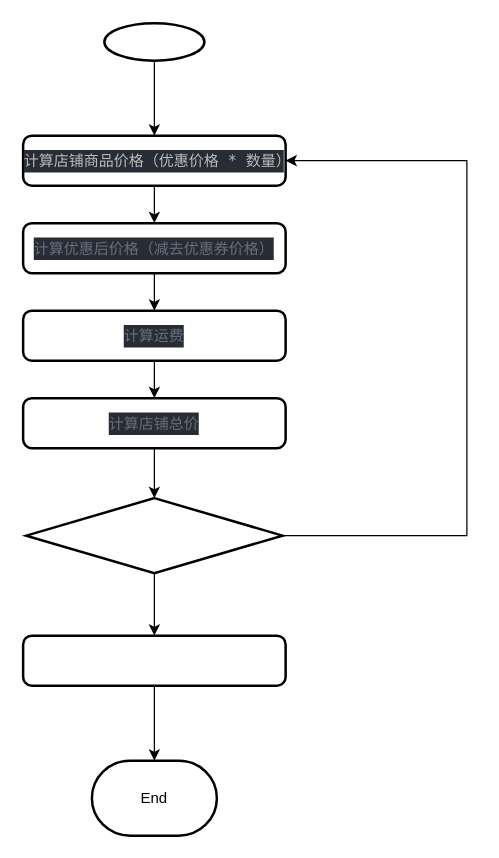
The diagram is 499 pixels wide and 858 high, and some of its shapes have lost their labels. Here are the shapes that lost their labels. From the top down, the centre of each, then its label:
At (x=153, y=41): "start".
At (x=153, y=535): "遍历清单的店铺是否结束".
At (x=153, y=660): "计算所有店铺的商品总价".
